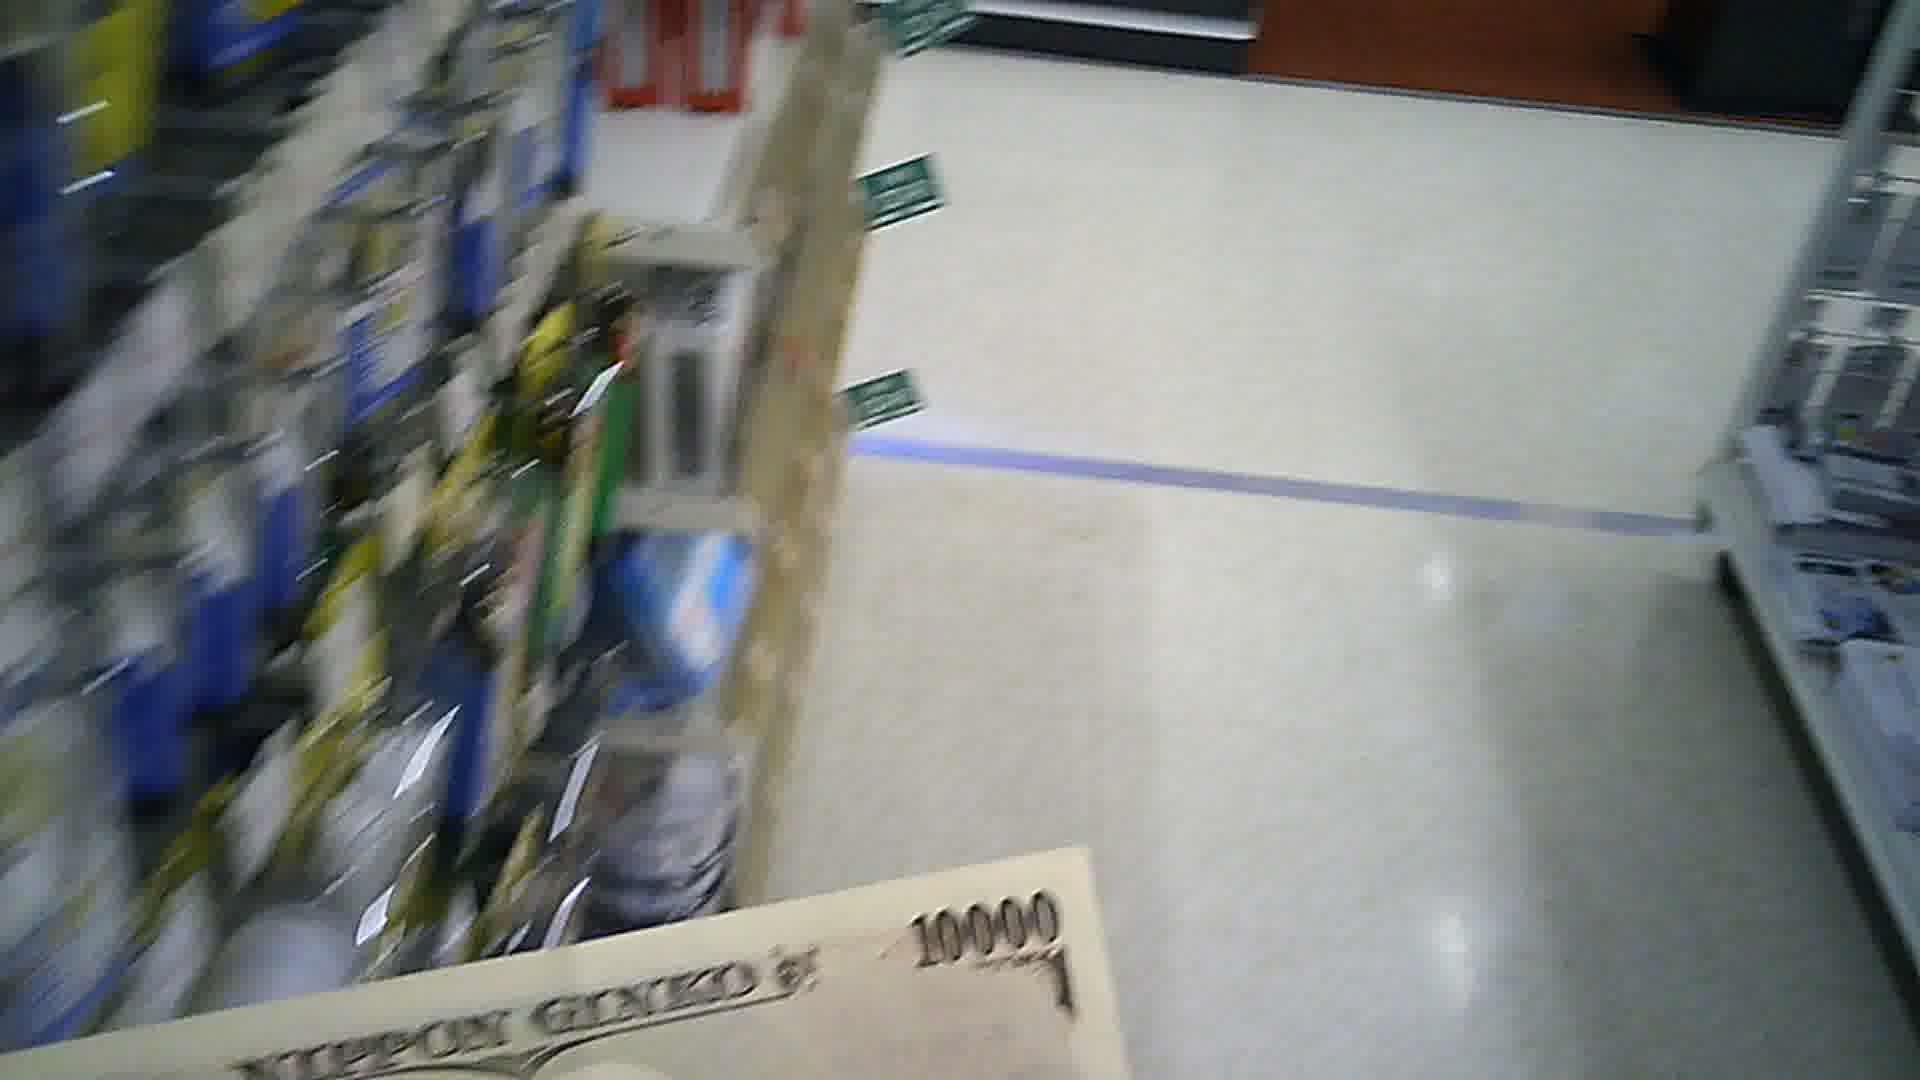10,000 Yen: (102, 831, 1138, 1077)
